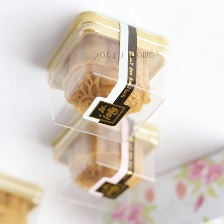plastic_box: (37, 7, 175, 147), (40, 103, 164, 217)
